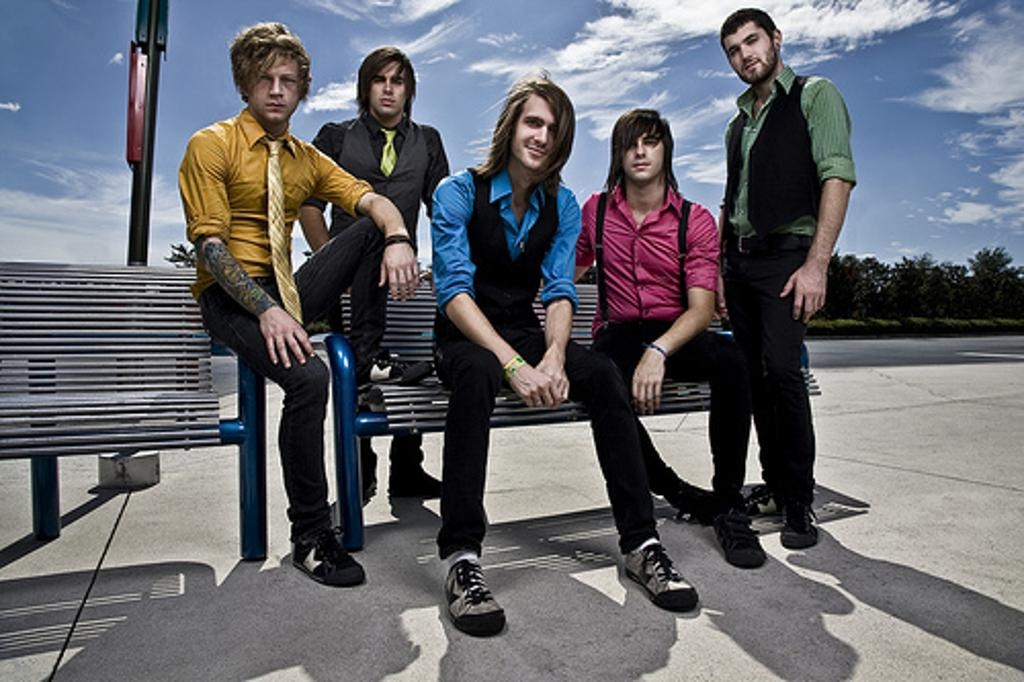human_face: (512, 98, 564, 166), (250, 50, 300, 119), (722, 28, 776, 82), (621, 125, 665, 179), (367, 58, 407, 112)
